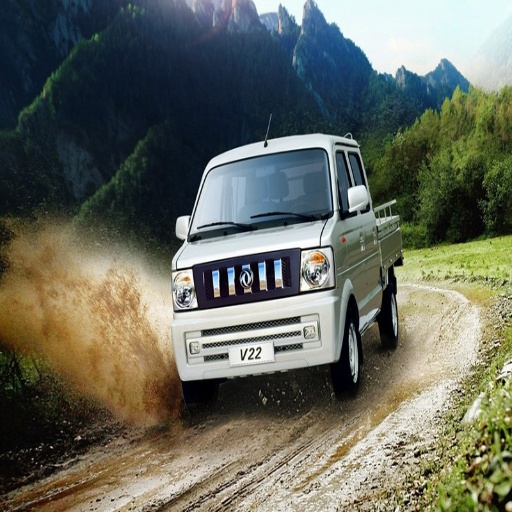front_bumper: (174, 250, 342, 376)
front_glass: (190, 150, 333, 241)
